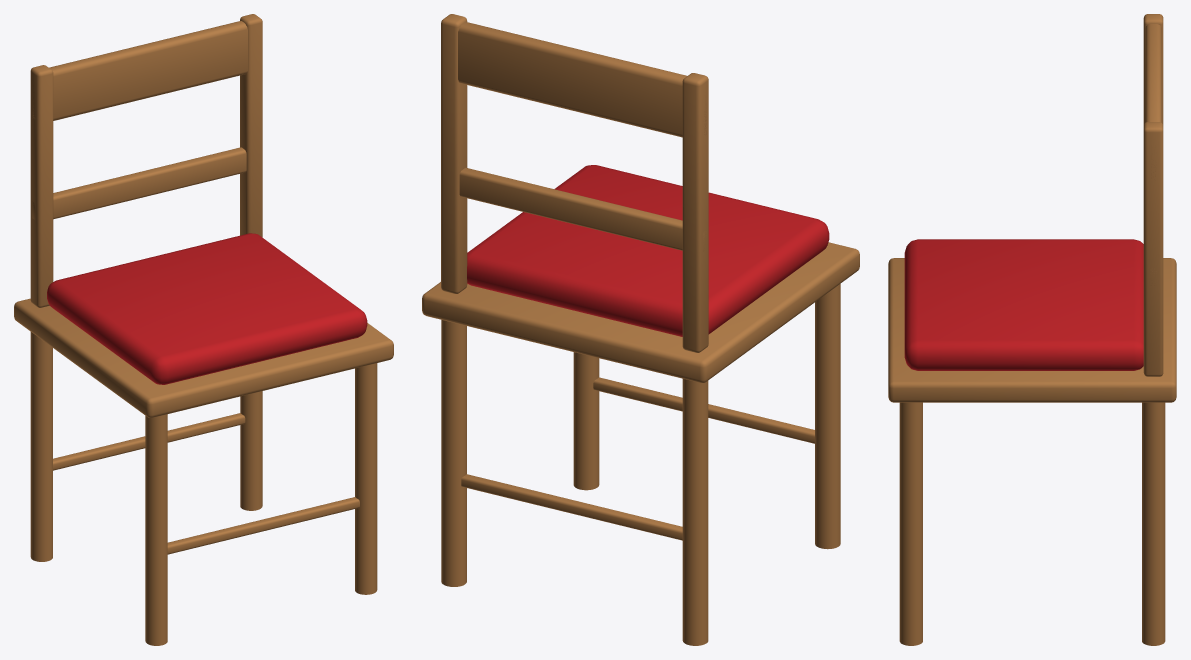
Rendered from demo-chair.glb.
The picture shows the model from 3 angles, left to right: view 1: azimuth 30°, elevation 25°; view 2: azimuth 150°, elevation 25°; view 3: azimuth 270°, elevation 25°; orthographic projection. The views are drawn at different scales.
Parts seen in each view (by area): view 1: Cushion, Seat, BackRailTop, BackPost0, BackRailLow, Leg0, Leg1, Leg2, BackPost1, Leg3, Stretcher0, Stretcher1; view 2: Cushion, Seat, BackRailTop, BackPost0, Leg2, BackRailLow, Leg3, Leg0, BackPost1, Leg1, Stretcher1, Stretcher0; view 3: Cushion, Seat, Leg1, Leg3, BackPost1, BackRailTop, BackPost0.
Boxes of the visible parts, bbox=[...] form: Cushion: bbox=[47, 233, 367, 384]; Seat: bbox=[14, 298, 393, 417]; BackRailTop: bbox=[32, 21, 247, 120]; BackPost0: bbox=[30, 65, 53, 307]; BackRailLow: bbox=[32, 147, 246, 219]; Leg0: bbox=[145, 414, 167, 645]; Leg1: bbox=[355, 363, 377, 594]; Leg2: bbox=[30, 332, 52, 561]; BackPost1: bbox=[240, 14, 262, 237]; Leg3: bbox=[240, 391, 262, 510]; Stretcher0: bbox=[167, 497, 359, 554]; Stretcher1: bbox=[53, 413, 245, 470]; Cushion: bbox=[467, 165, 829, 336]; Seat: bbox=[422, 242, 859, 382]; BackRailTop: bbox=[458, 22, 706, 137]; BackPost0: bbox=[682, 73, 708, 352]; Leg2: bbox=[682, 379, 708, 645]; BackRailLow: bbox=[459, 167, 706, 251]; Leg3: bbox=[441, 320, 466, 586]; Leg0: bbox=[815, 284, 840, 549]; BackPost1: bbox=[441, 14, 467, 293]; Leg1: bbox=[573, 352, 599, 490]; Stretcher1: bbox=[461, 474, 682, 540]; Stretcher0: bbox=[593, 377, 814, 443]; Cushion: bbox=[904, 239, 1143, 370]; Seat: bbox=[888, 258, 1176, 402]; Leg1: bbox=[899, 402, 922, 645]; Leg3: bbox=[1142, 402, 1165, 645]; BackPost1: bbox=[1143, 122, 1163, 376]; BackRailTop: bbox=[1145, 24, 1161, 176]; BackPost0: bbox=[1143, 14, 1163, 125].
Bounding box in the file's own units: 0.46 × 0.87 × 0.44.
